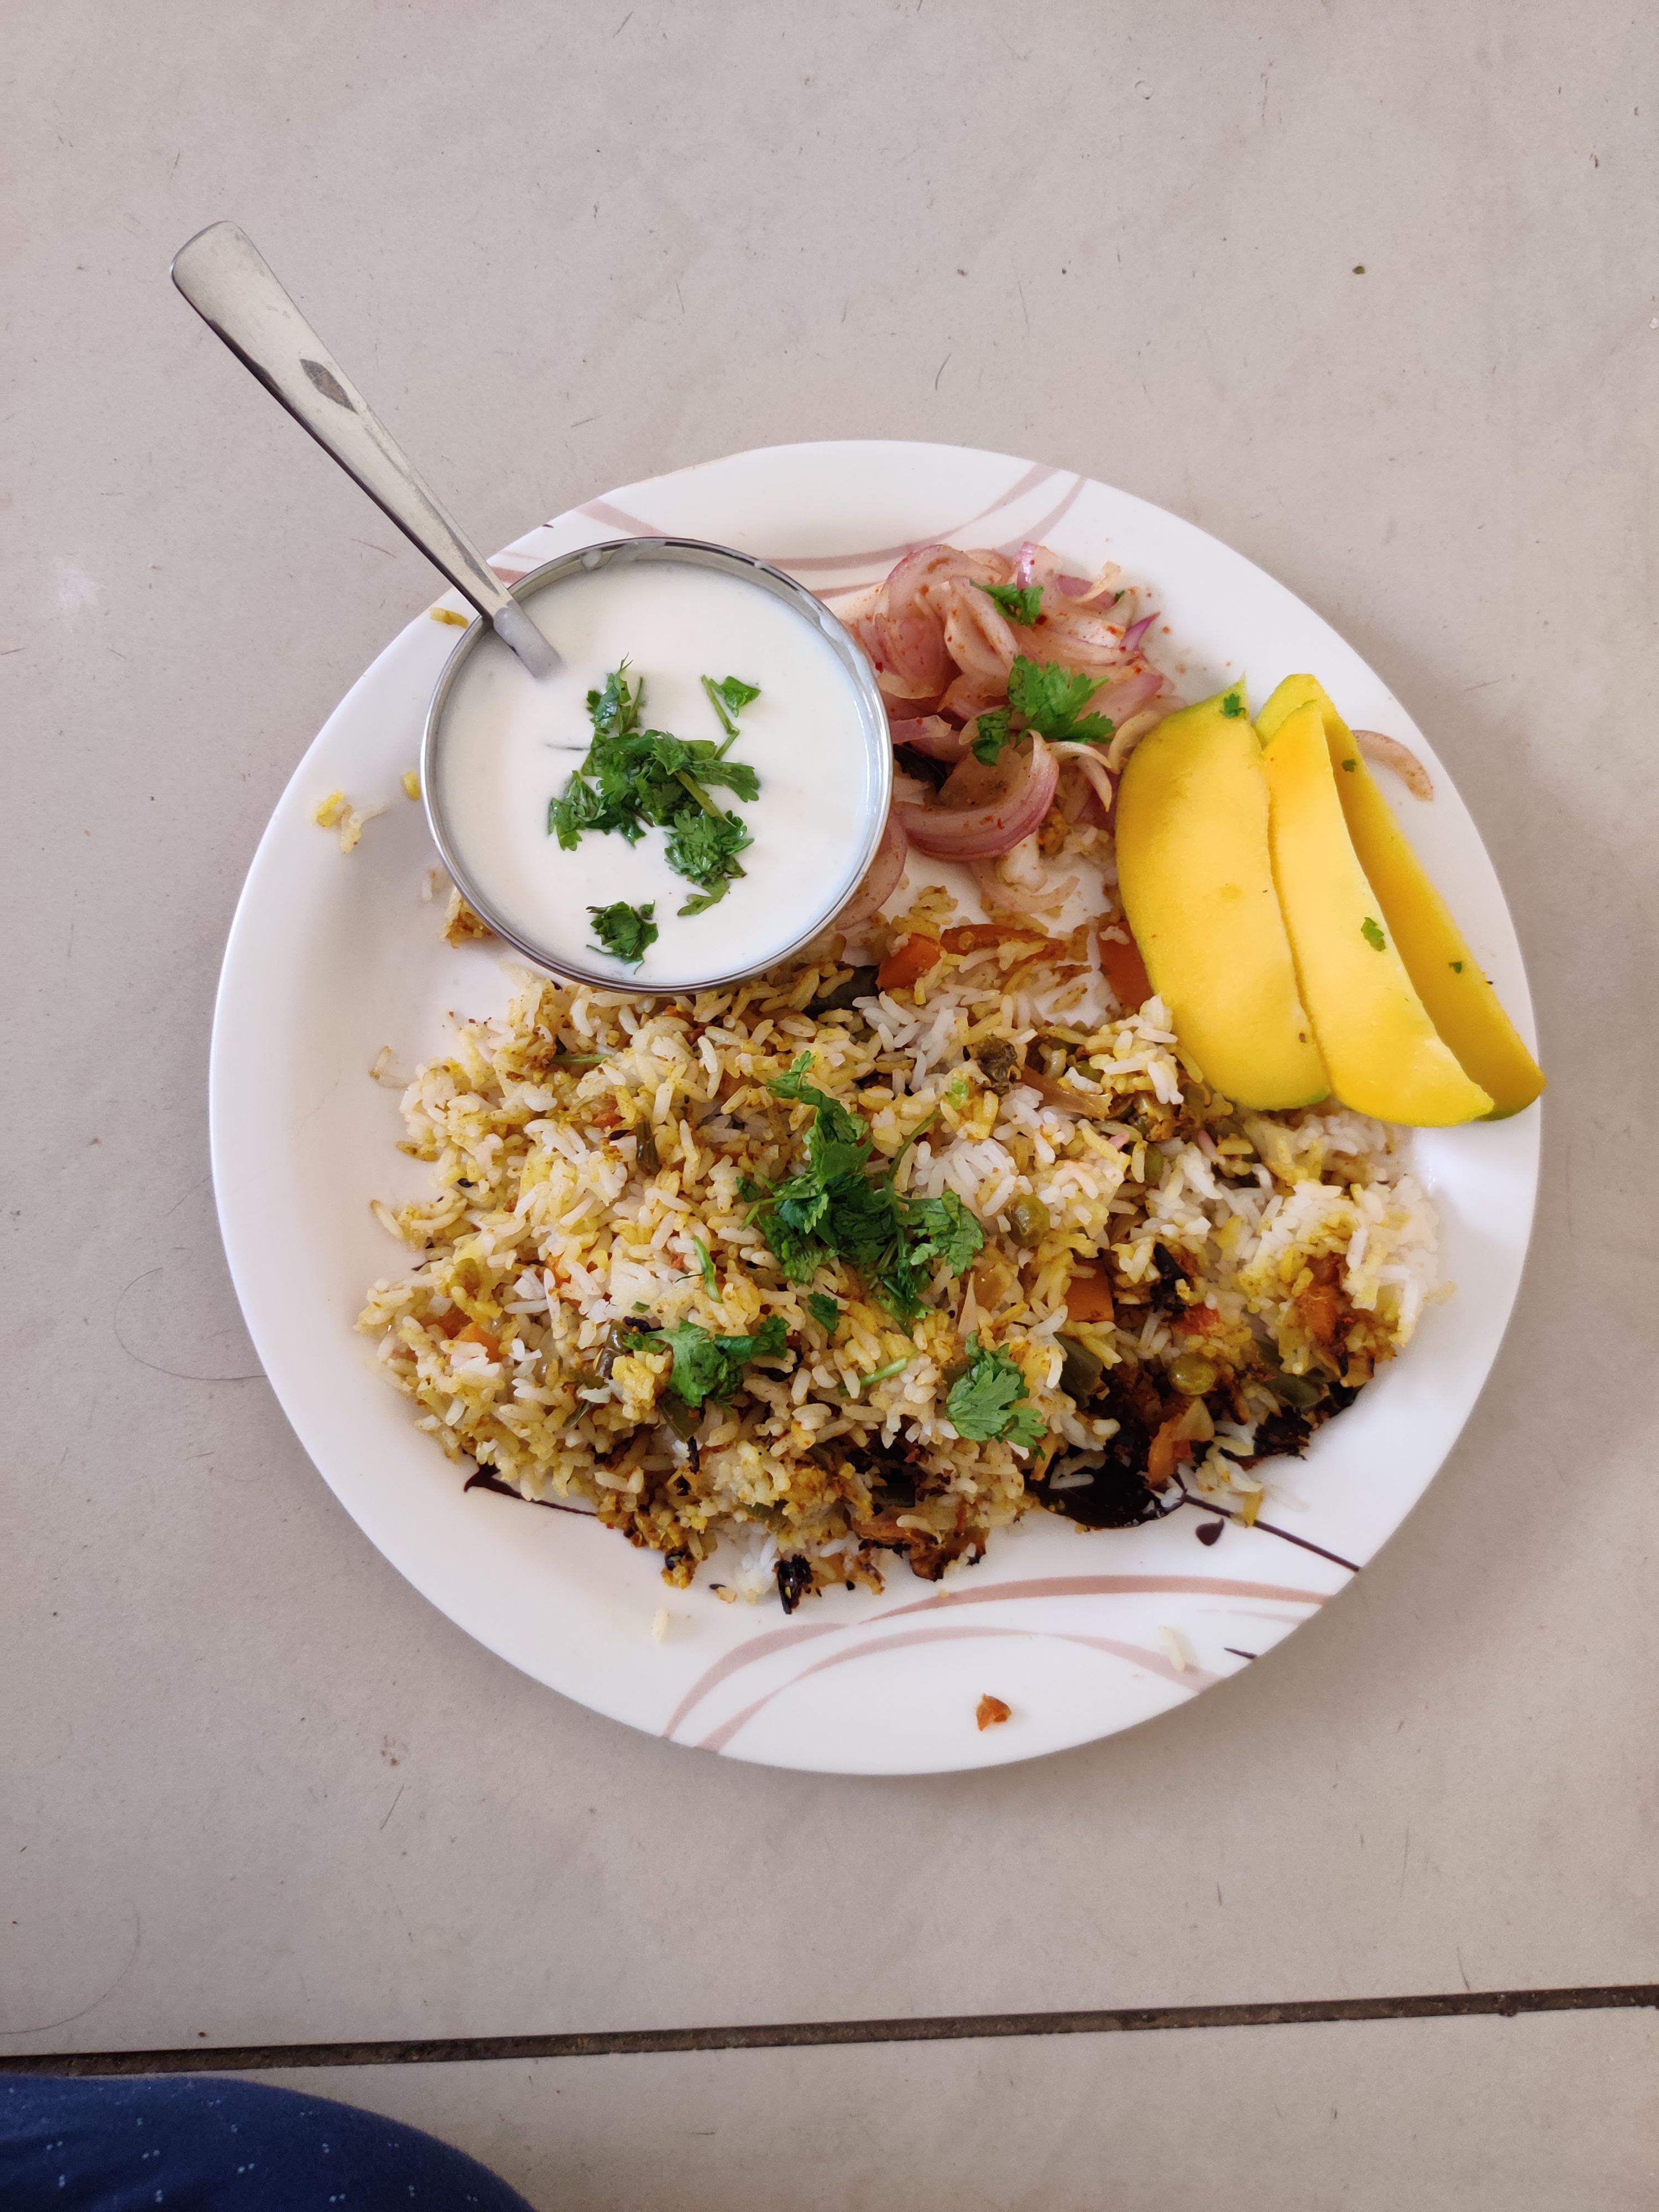food: (309, 524, 1559, 1625)
